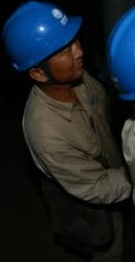gloves: (116, 0, 135, 26), (117, 0, 135, 23)
hard-hat: (1, 0, 83, 72)
ppe-suit: (68, 18, 135, 262)
vest: (19, 70, 133, 262)
